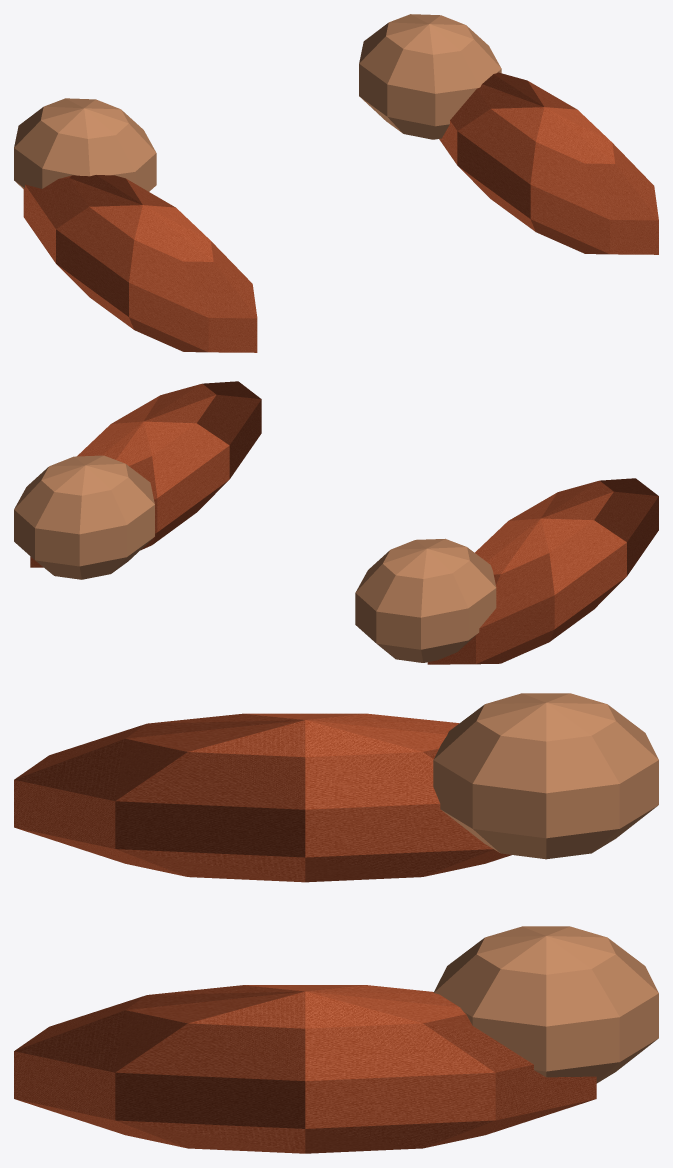
The model's file is first_person_hands.obj.
3 renders of one model, top to bottom at view 1: azimuth 30°, elevation 25°; view 2: azimuth 150°, elevation 25°; view 3: azimuth 270°, elevation 25°, orthographic. The views are drawn at different scales.
Visible parts, largest first — view 1: LeftForearm, RightForearm, RightHand, LeftHand; view 2: LeftForearm, RightForearm, RightHand, LeftHand; view 3: RightForearm, LeftForearm, LeftHand, RightHand.
Part boxes in pixels (x1,y1,x2,y2): LeftForearm: (23, 175, 257, 352); RightForearm: (439, 72, 658, 254); RightHand: (359, 14, 501, 139); LeftHand: (14, 98, 156, 191); LeftForearm: (427, 478, 658, 664); RightForearm: (30, 381, 261, 567); RightHand: (14, 455, 154, 579); LeftHand: (355, 538, 496, 662); RightForearm: (14, 985, 596, 1153); LeftForearm: (14, 713, 511, 882); LeftHand: (433, 693, 658, 859); RightHand: (433, 926, 658, 1083).
Bounding box in the file's own units: 1.61 × 0.42 × 1.29.
2 materials, 1 textured.
